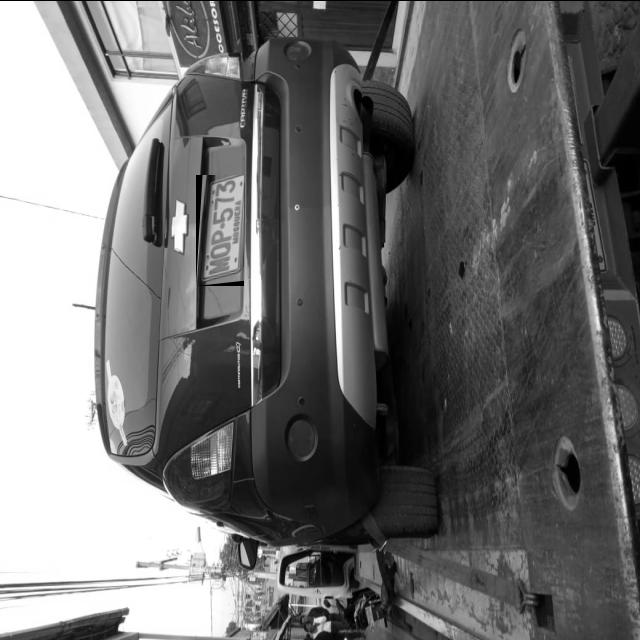plate: (196, 174, 244, 284)
